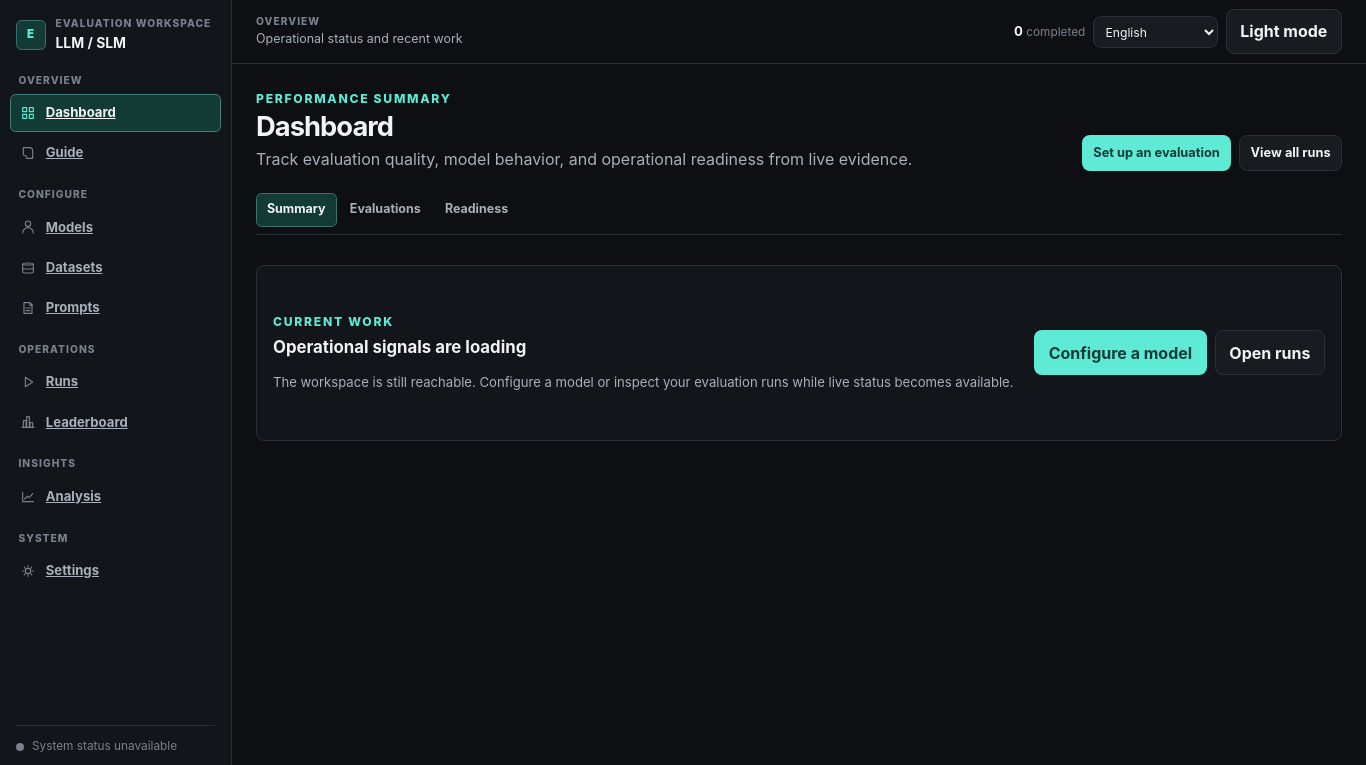
Scenario: dataset catalog › hands a ready dataset to the Runs launcher without queueing automatically
This screenshot has width=1366, height=765.
Step 1. Click the link "Datasets" → (61, 267), box [20,259,103,276]
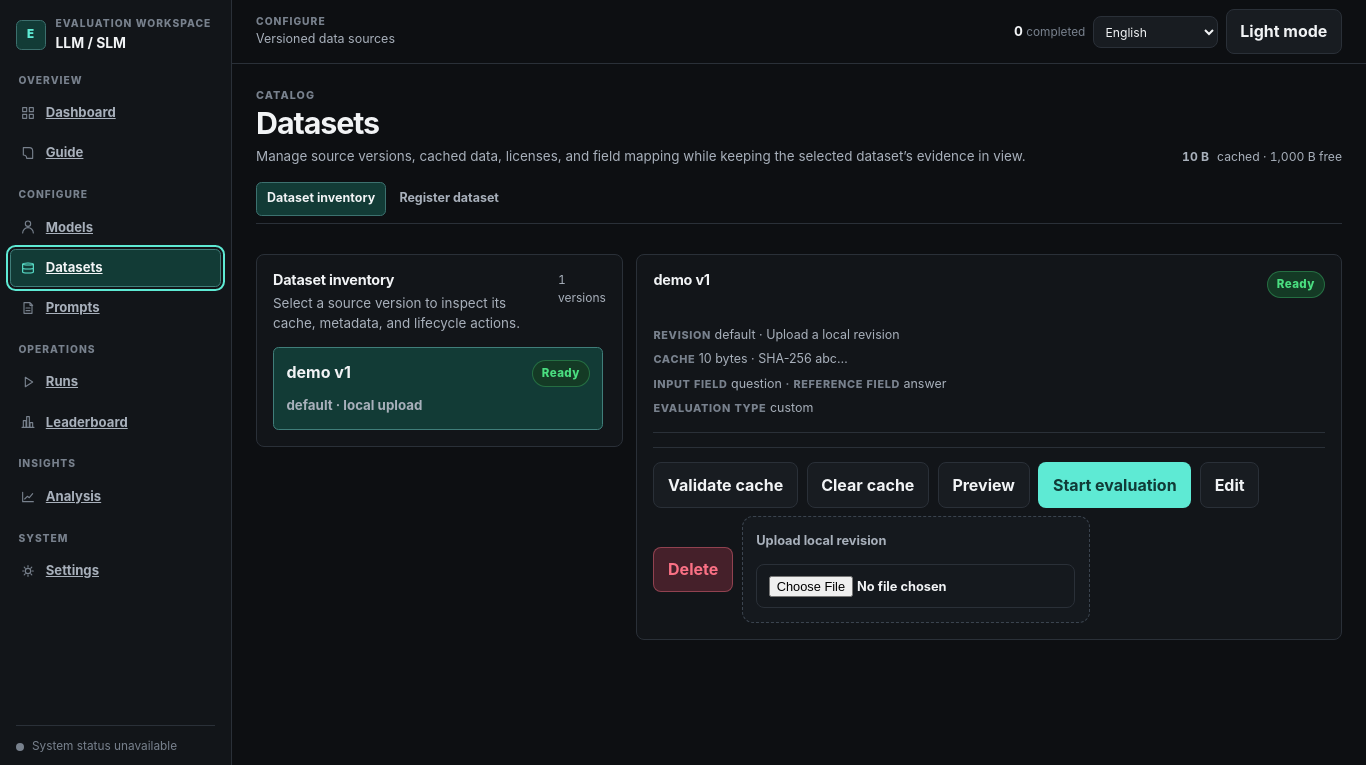
Step 2. Click the button "Start evaluation" → (1115, 485), box [1038,462,1191,508]
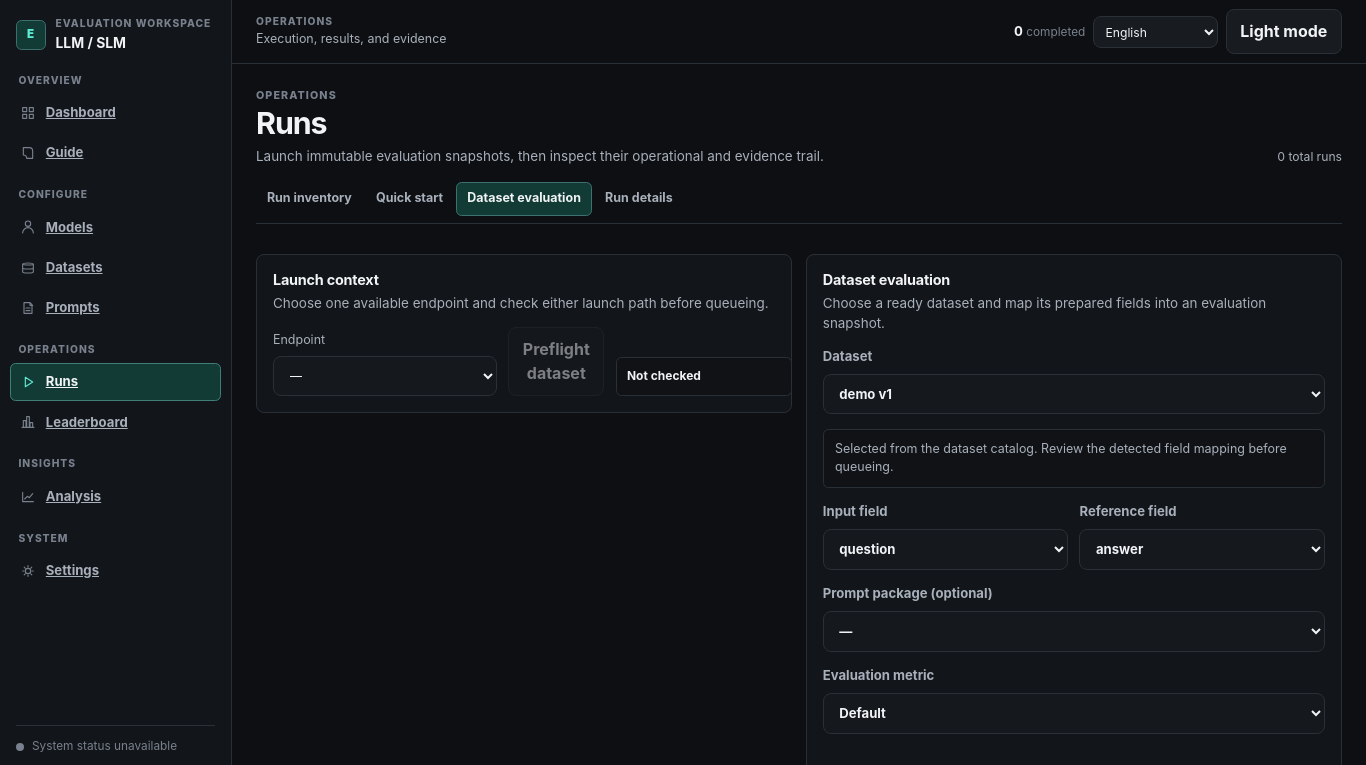
Now the heading "Runs" is shown, box [256,105,327,141]
Now the text "Selected from the dataset catalog" is shown, box [835,441,1287,474]
Now the dropdown labelled "Dataset" shows "demo v1", box [823,374,1325,414]
